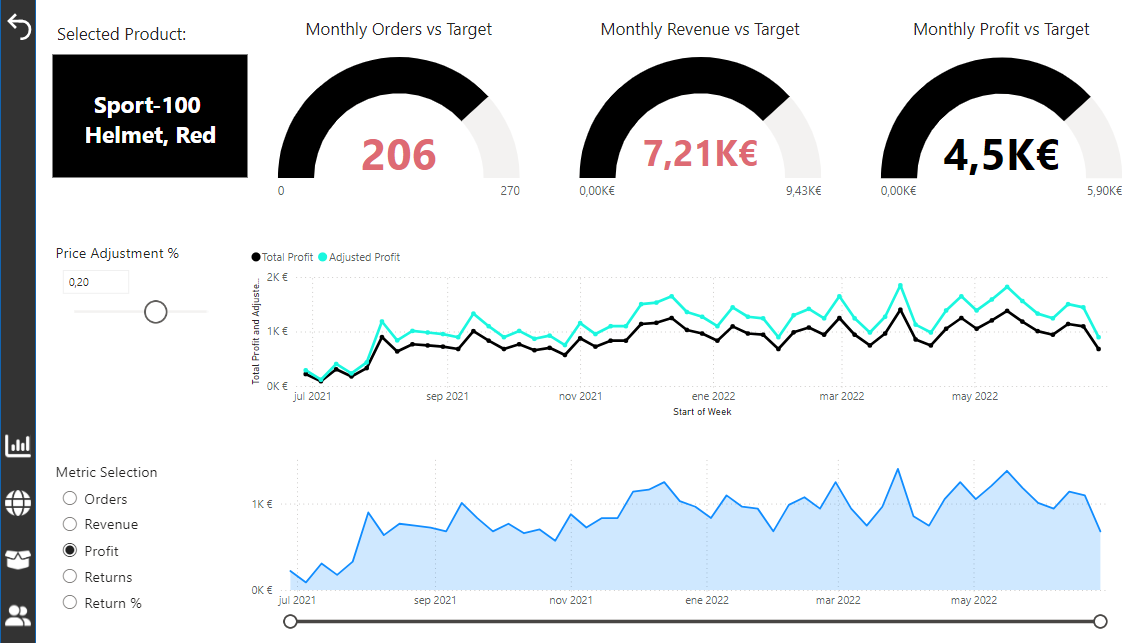

Layout of this report page (visuals, bound fields, positions):
{"tool":"powerbi","page":{"name":"Product Detail","canvas":[1280,720],"ordinal":2},"visuals":[{"type":"shape","title":"Left Nav Backr","box":[0,0,40,720],"z":0},{"type":"gauge","title":"Monthly Orders vs Target","fields":{"Y":["Measure Table.Total Orders"],"MaxValue":["Measure Table.Order Target"]},"box":[303.3,20,279,226],"z":1000},{"type":"gauge","title":"Monthly Revenue vs Target","fields":{"Y":["Measure Table.Total Revenue"],"MaxValue":["Measure Table.Revenue Target"]},"box":[638.3,20,279,226],"z":2000},{"type":"gauge","title":"Monthly Profit vs Target","fields":{"MaxValue":["Measure Table.Profit Target"],"Y":["Measure Table.Total Profit"]},"box":[973.3,20,278.3,226.7],"z":3000},{"type":"lineChart","title":"Weekly Profit","fields":{"Category":["Calendar Lookup.Start of Year Hierarchy.Start of Year","Calendar Lookup.Start of Year Hierarchy.Start of Month","Calendar Lookup.Start of Year Hierarchy.Start of Week","Calendar Lookup.Start of Year Hierarchy.Date"],"Y":["Measure Table.Total Profit","Measure Table.Adjusted Profit"]},"box":[274,266,978,202],"z":4000},{"type":"areaChart","title":"Weekly Profit","fields":{"Y":["Measure Table.Total Orders"],"Category":["Calendar Lookup.Start of Year Hierarchy.Start of Year","Calendar Lookup.Start of Year Hierarchy.Start of Month","Calendar Lookup.Start of Year Hierarchy.Start of Week","Calendar Lookup.Start of Year Hierarchy.Date"]},"box":[274,498,980,204],"z":5000},{"type":"card","fields":{"Values":["Min(Product Lookup.ProductName)"]},"box":[58.3,61.7,216.7,136.7],"z":6000},{"type":"textbox","box":[58.3,20,245,41.7],"z":7000},{"type":"actionButton","box":[2.2,479,51.7,36.7],"z":8000},{"type":"actionButton","box":[2.2,541.7,51.7,36.7],"z":9000},{"type":"actionButton","box":[2.2,604.5,51.7,36.7],"z":10000},{"type":"actionButton","box":[2.2,667.3,51.7,36.7],"z":11000},{"type":"actionButton","box":[1.4,10,40,41.4],"z":12000},{"type":"slicer","title":"Price Adjustment %","fields":{"Values":["Price Adjustment.Price Adjustment"]},"box":[56,270,196,96],"z":13000},{"type":"slicer","title":"Metric Selection","fields":{"Values":["Product Metric Selection.Product Metric Selection"]},"box":[56,514,186,190],"z":14000}]}

Visuals, with their boxes in screenshot pixels (x1, y1, x2, y2), scaled from the page's 1280x720 canvas onto the 1146x643 screenshot:
"Left Nav Backr" shape: 0:0:36:642
"Monthly Orders vs Target" gauge: 272:18:521:220
"Monthly Revenue vs Target" gauge: 571:18:821:220
"Monthly Profit vs Target" gauge: 871:18:1121:220
"Weekly Profit" lineChart: 245:238:1121:418
"Weekly Profit" areaChart: 245:445:1123:627
card - Min(Product Lookup.ProductName): 52:55:246:177
textbox: 52:18:272:55
actionButton: 2:428:48:461
actionButton: 2:484:48:517
actionButton: 2:540:48:573
actionButton: 2:596:48:629
actionButton: 1:9:37:46
"Price Adjustment %" slicer: 50:241:226:327
"Metric Selection" slicer: 50:459:217:629
